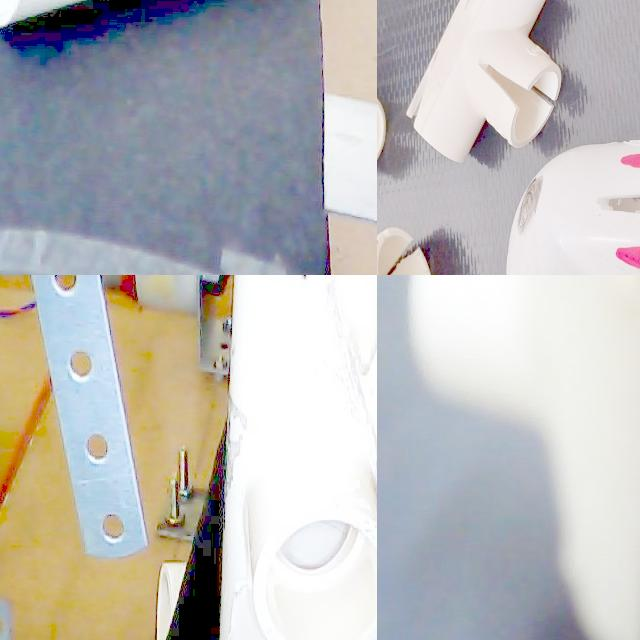Defective: (275, 275, 377, 508), (228, 480, 375, 640), (7, 0, 229, 27), (500, 147, 556, 205), (423, 184, 464, 261), (619, 498, 640, 640), (226, 376, 236, 544), (406, 0, 426, 20)
L Joint: (377, 0, 445, 60)
T Joint: (218, 275, 377, 640), (381, 76, 557, 275)
